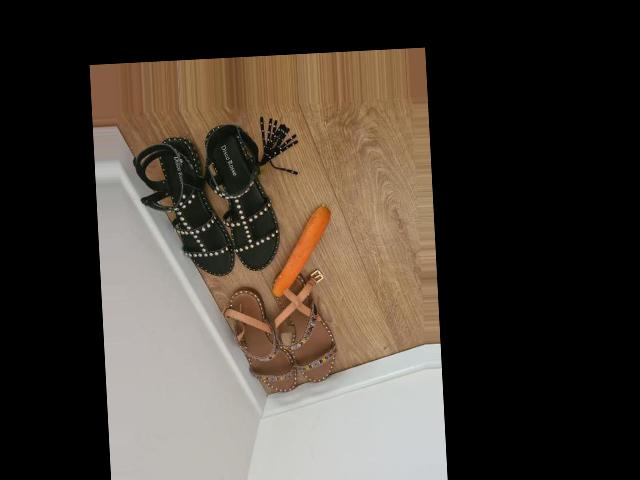carrot: (269, 205, 333, 296)
